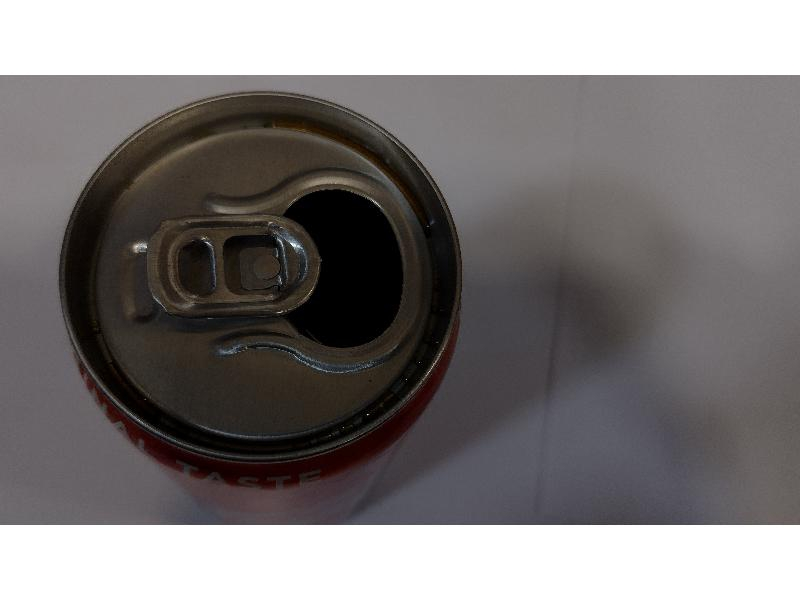can: (58, 90, 460, 466)
